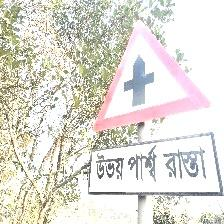Crossroad: (89, 20, 215, 222)
